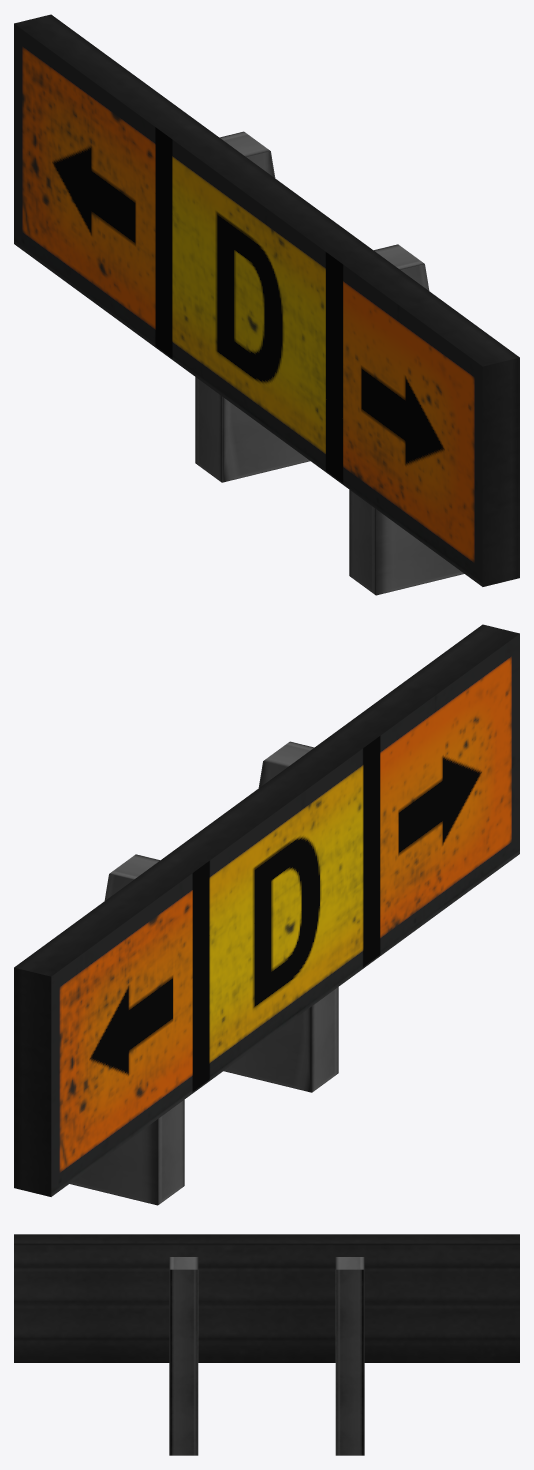
The model's file is Sign_Small_Var04.fbx.
The picture shows the model from 3 angles, top to bottom: view 1: azimuth 30°, elevation 25°; view 2: azimuth 150°, elevation 25°; view 3: azimuth 270°, elevation 25°; orthographic projection. The views are drawn at different scales.
Visible parts, largest first — view 1: Sign_Small_Var04; view 2: Sign_Small_Var04; view 3: Sign_Small_Var04.
Boxes of the visible parts, x1=… form: Sign_Small_Var04: x1=14, y1=14, x2=519, y2=595; Sign_Small_Var04: x1=14, y1=624, x2=519, y2=1205; Sign_Small_Var04: x1=14, y1=1234, x2=519, y2=1455.
Size of the model in its own units: 2.77 by 6.64 by 16.43.
